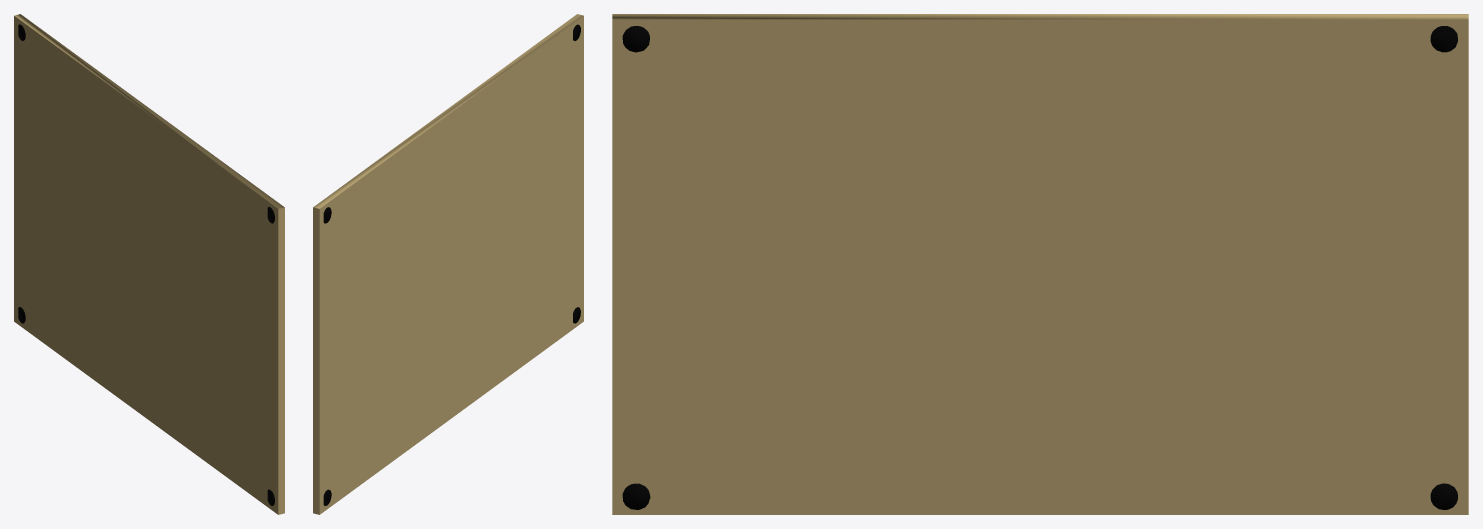
File: Electric Board.fbx
The picture shows the model from 3 angles, left to right: view 1: azimuth 30°, elevation 25°; view 2: azimuth 150°, elevation 25°; view 3: azimuth 270°, elevation 25°; orthographic projection. The views are drawn at different scales.
Visible parts, largest first — view 1: Screw.002; view 2: Screw.002; view 3: Screw.002.
Part boxes in pixels (<box>): Screw.002: <box>14,14,284,514</box>; Screw.002: <box>313,14,583,514</box>; Screw.002: <box>612,14,1468,514</box>.
Bounding box in the file's own units: 10.4 × 325 × 509.
